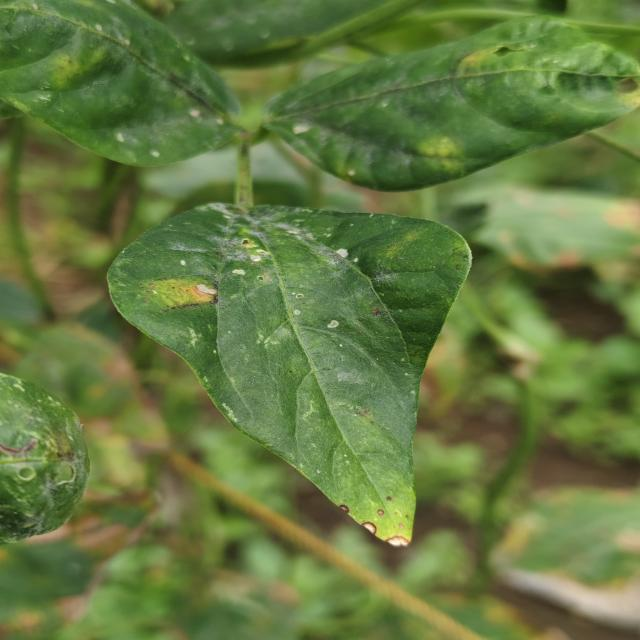sitaw-aphid-high: (108, 203, 471, 546), (265, 15, 640, 191), (0, 0, 239, 166), (0, 374, 90, 544)
